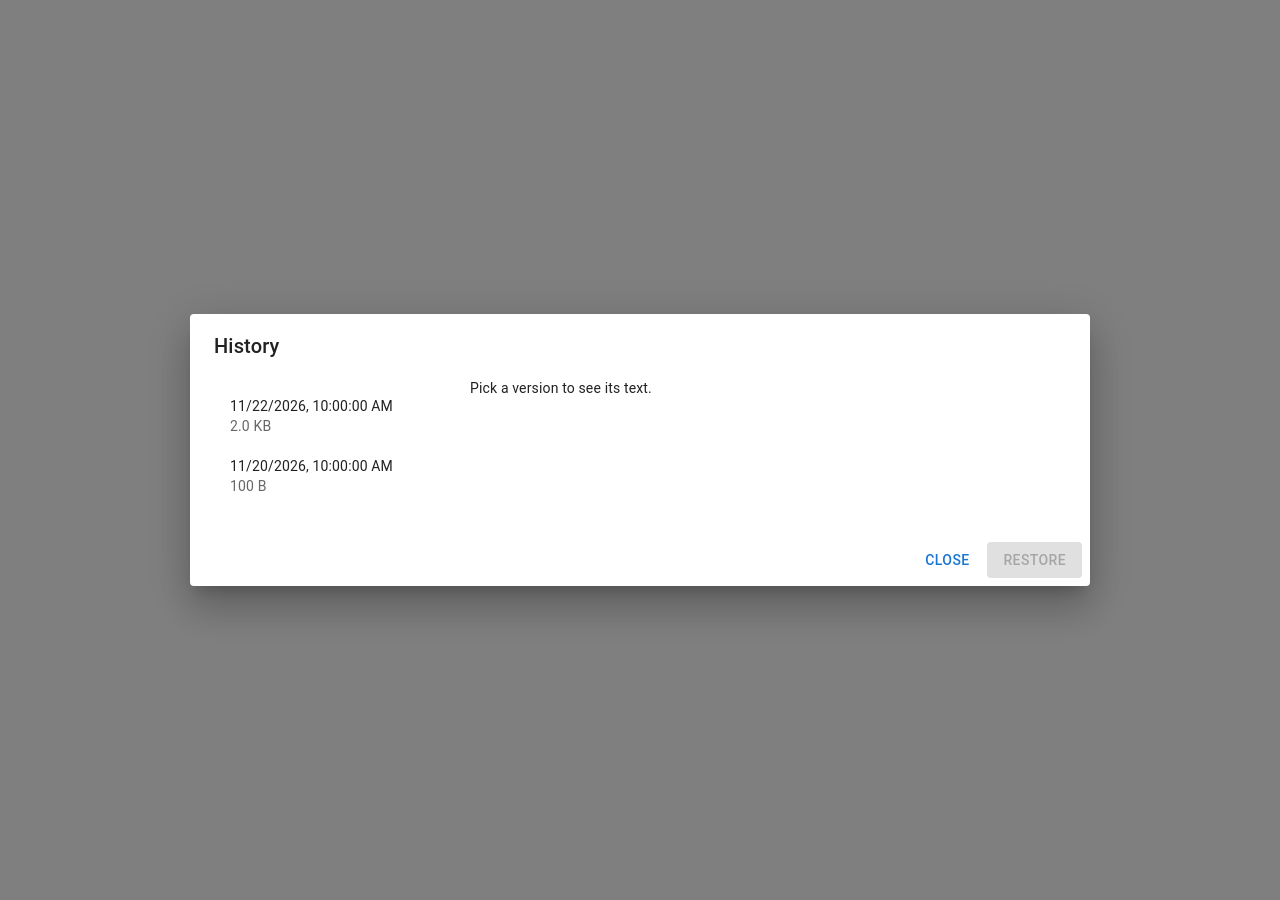
Test: HistoryDialog › shows the message when restore fails
What coordinates should you click on to do the following:
click the button "11/22/2026, 10:00:00 AM 2.0 KB"
I would click on:
 (312, 416)
Its box is [230,398,393,434].
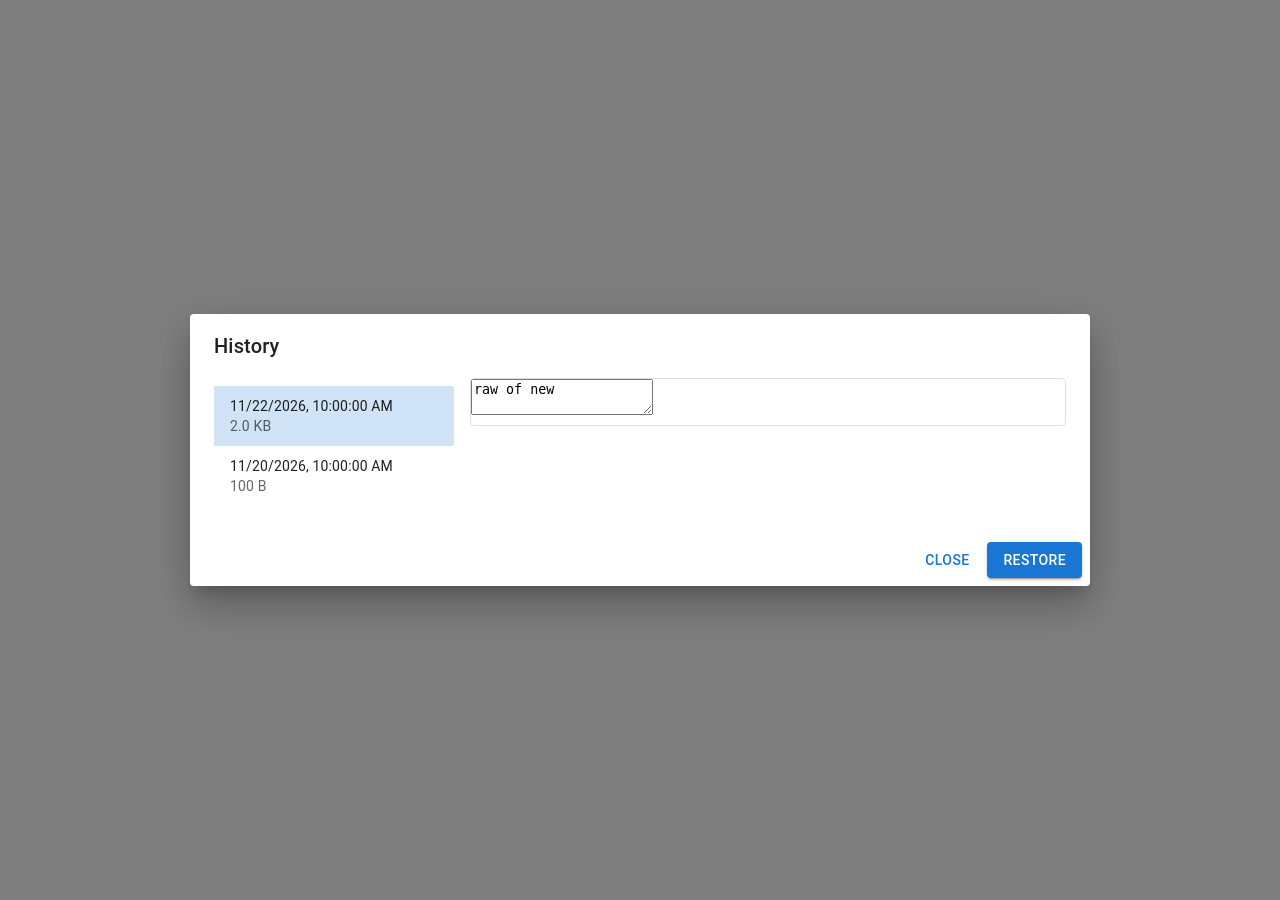
What coordinates should you click on to do the following:
click the button "Restore"
I would click on:
 (1035, 560)
Its box is [987,542,1082,578].
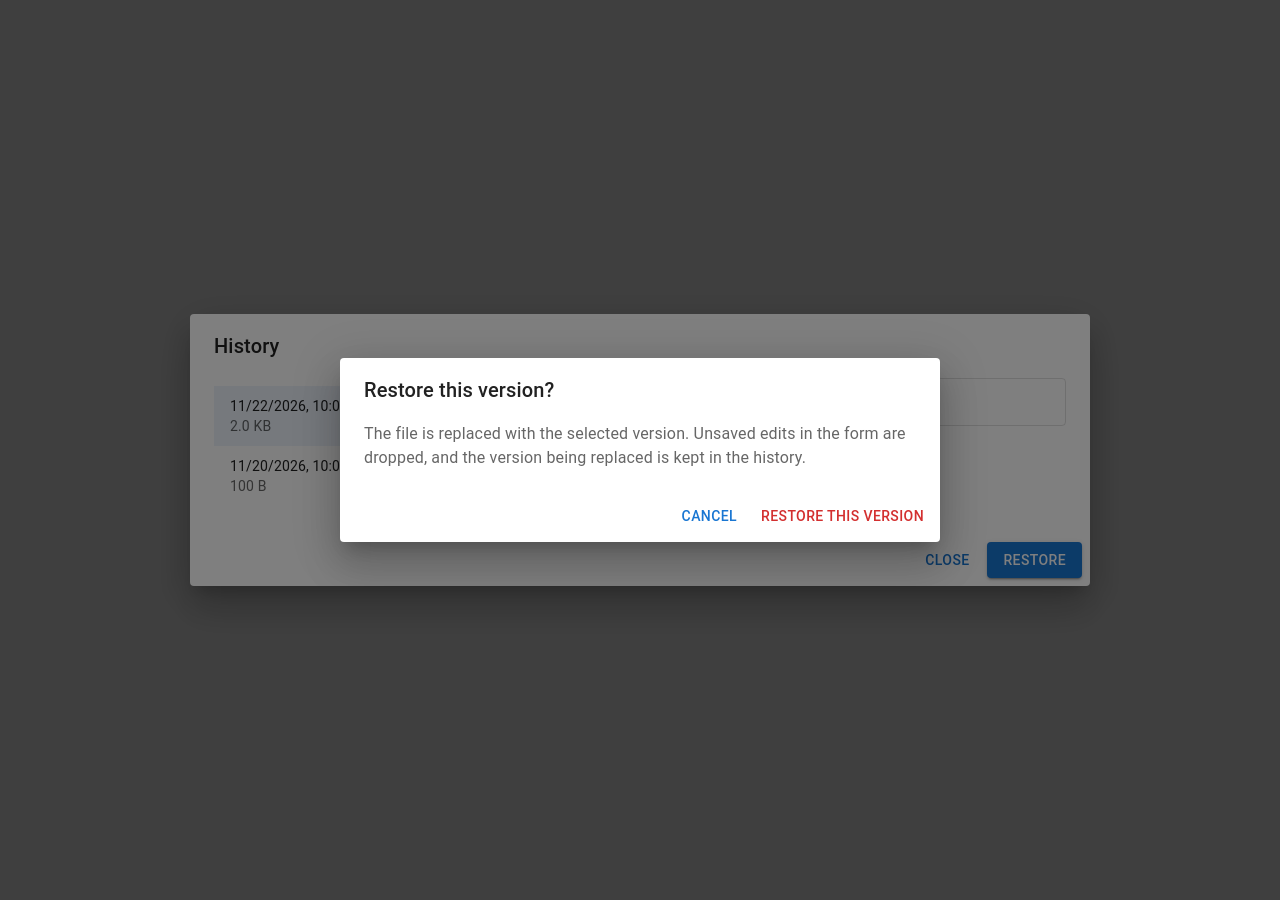
What coordinates should you click on to do the following:
click the button "Restore this version"
I would click on:
 (843, 516)
Its box is [753,498,932,534].
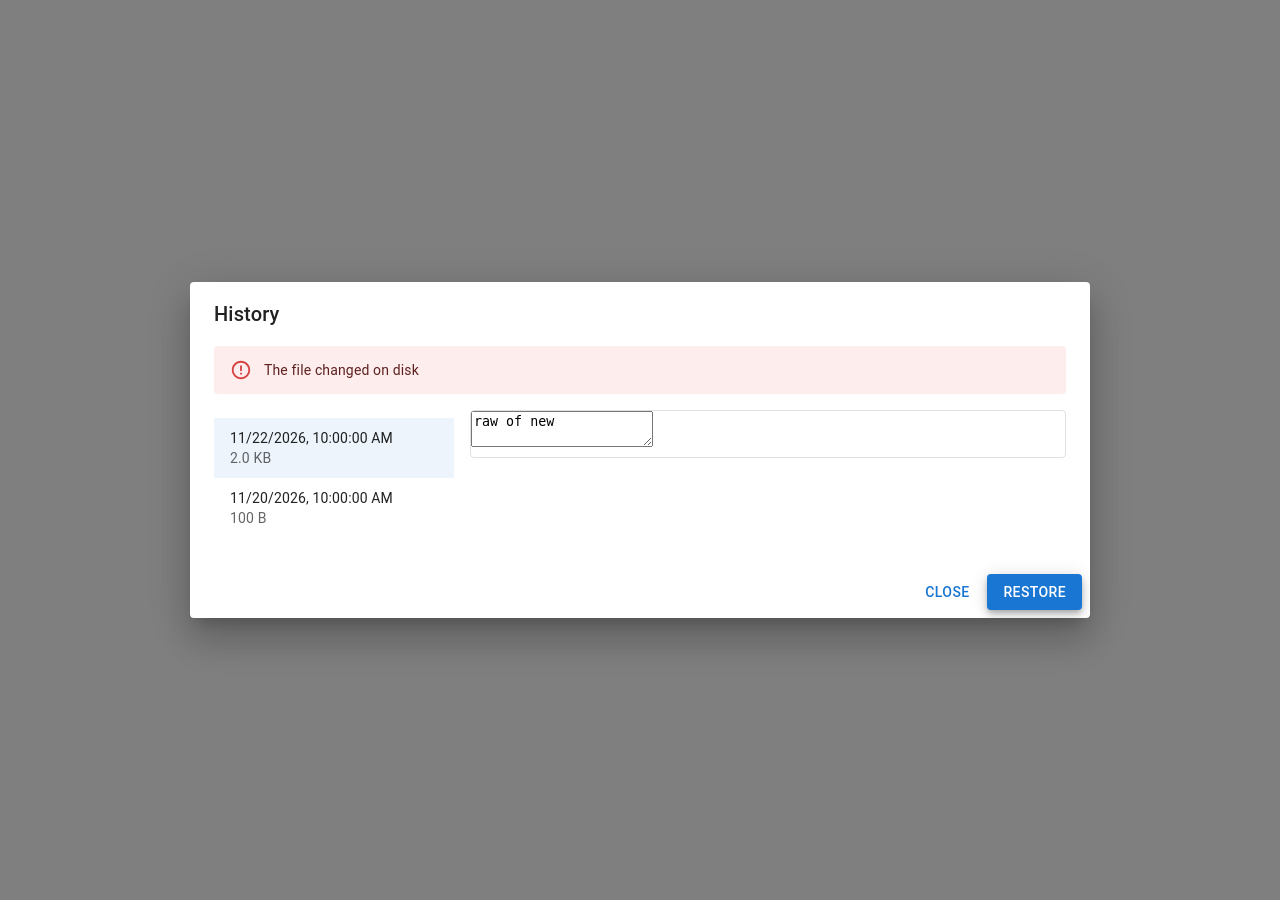
Now the text "The file changed on disk" is shown, box [264,362,419,378]
